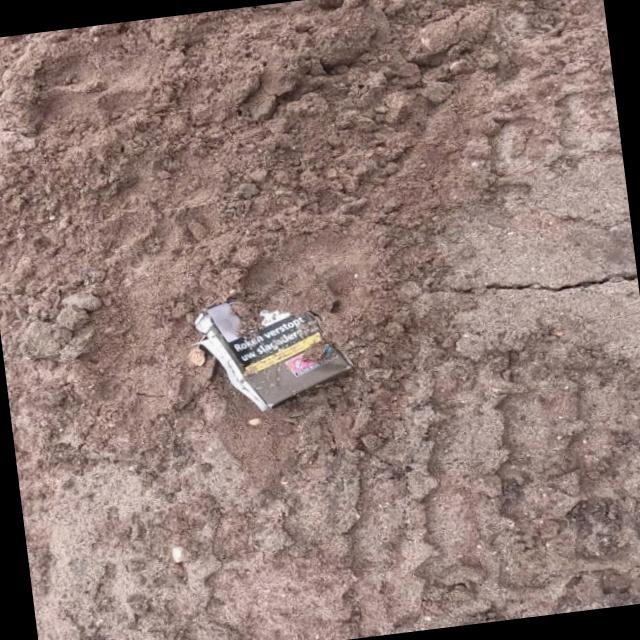Paper: (178, 268, 370, 431)
